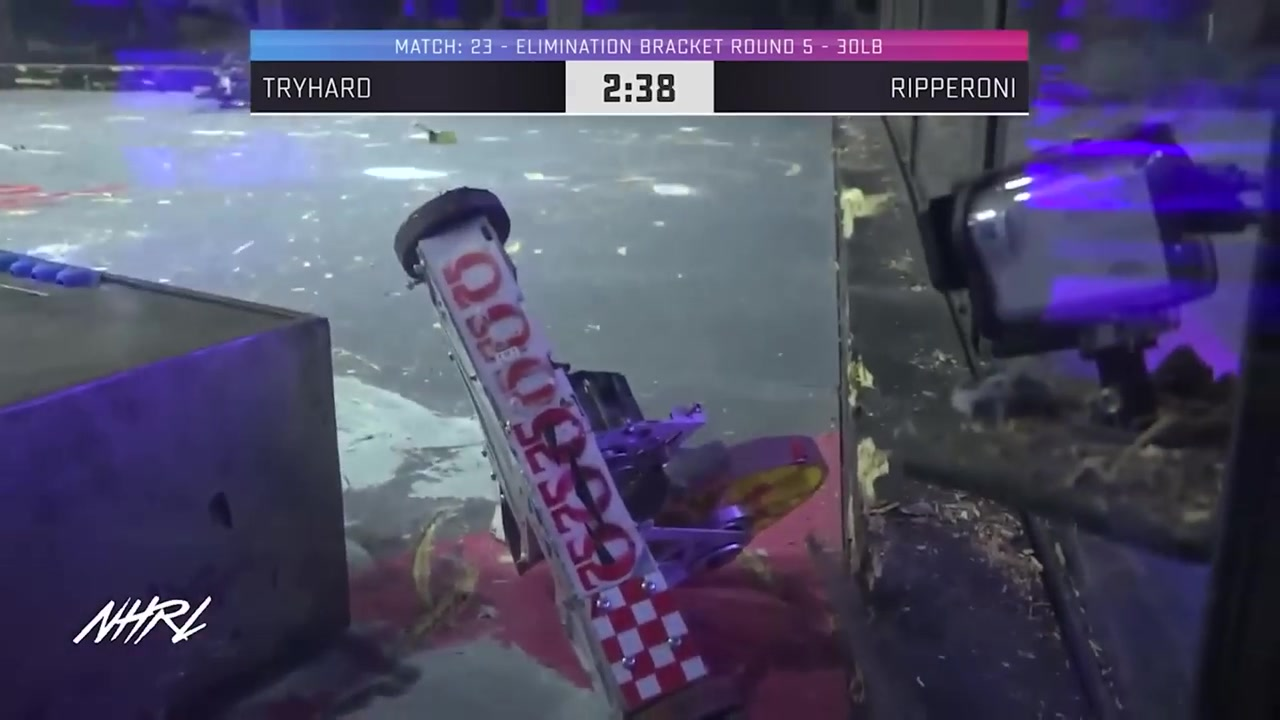combatbot: (391, 189, 828, 718)
housebot: (0, 249, 346, 720)
